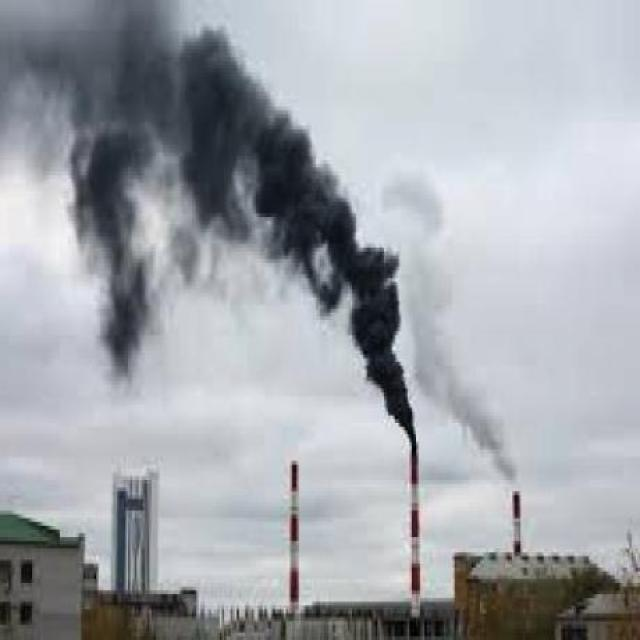Smoke: (0, 1, 416, 433), (413, 340, 530, 493)
